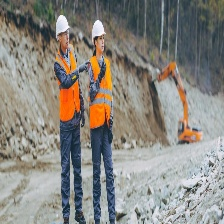helmet: (55, 15, 72, 39), (90, 20, 107, 44)
person: (54, 13, 87, 224), (87, 16, 118, 224)
vest: (89, 53, 115, 134), (55, 47, 82, 123)
